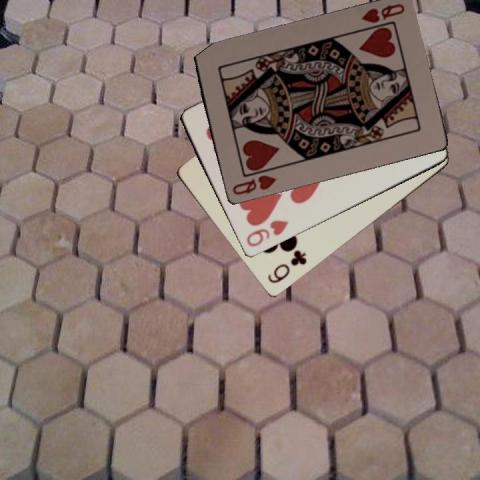6c: (264, 248, 309, 286)
9h: (243, 216, 290, 248)
Qh: (229, 172, 278, 197), (358, 1, 406, 25)
